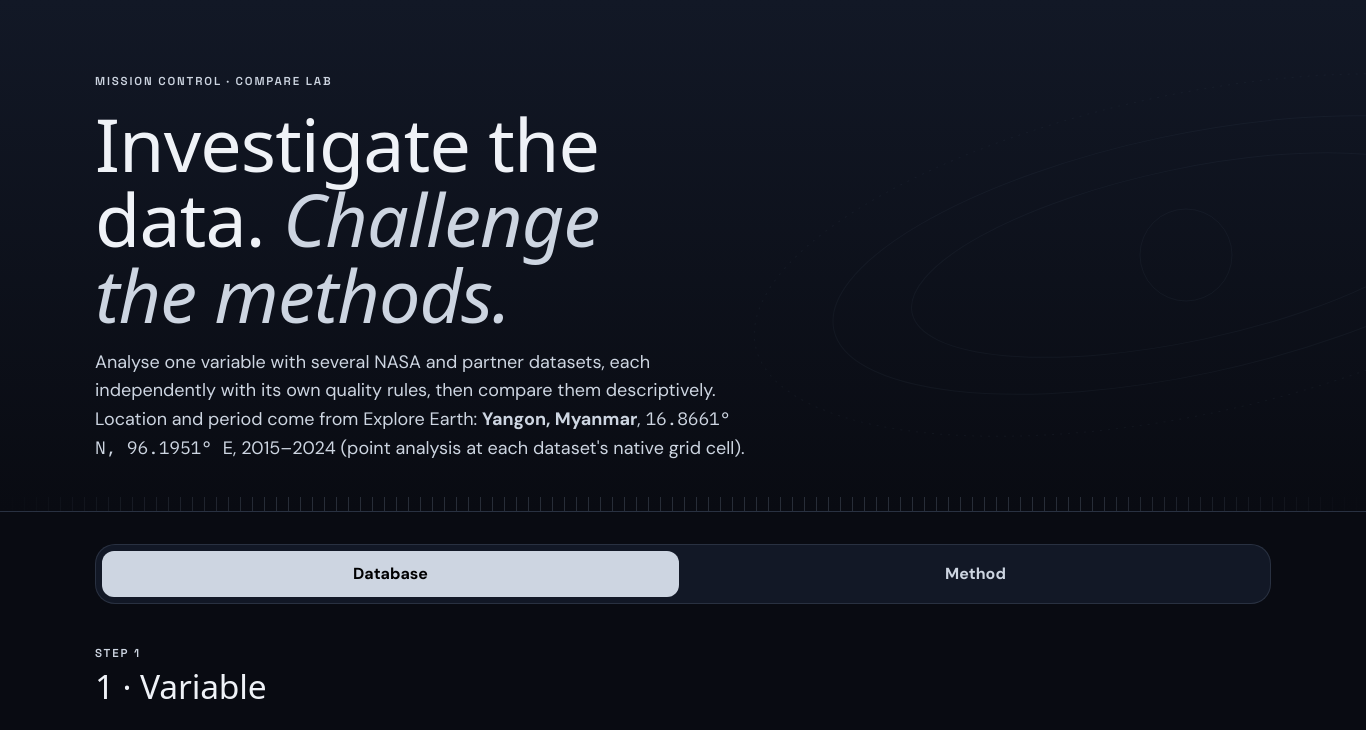
Test case: Compare datasets page › shows an actionable empty Method state without launching an analysis
Click the tab "Method": (976, 574) top-left (687, 551), bottom-right (1264, 597)
(page scrolled)
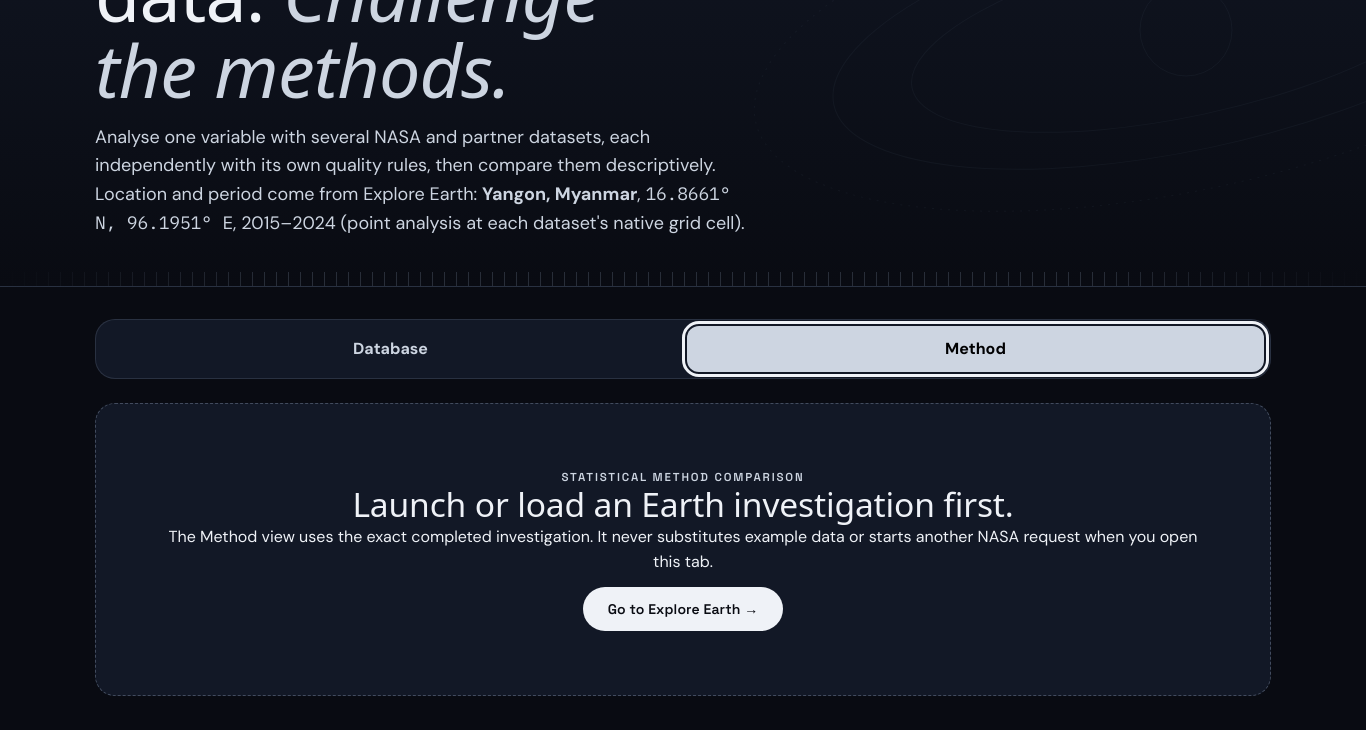
Now the heading "Launch or load an Earth investigation first." is shown, box top-left (352, 481), bottom-right (1014, 527)
